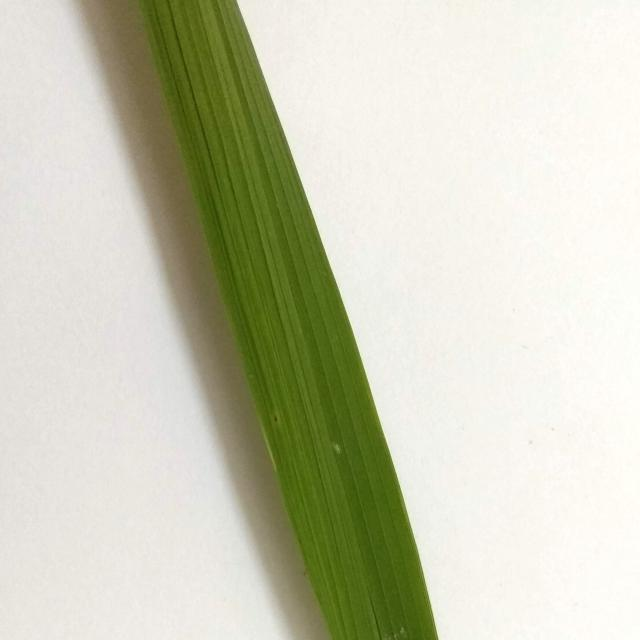Rice_Healthy: (140, 0, 437, 640)
